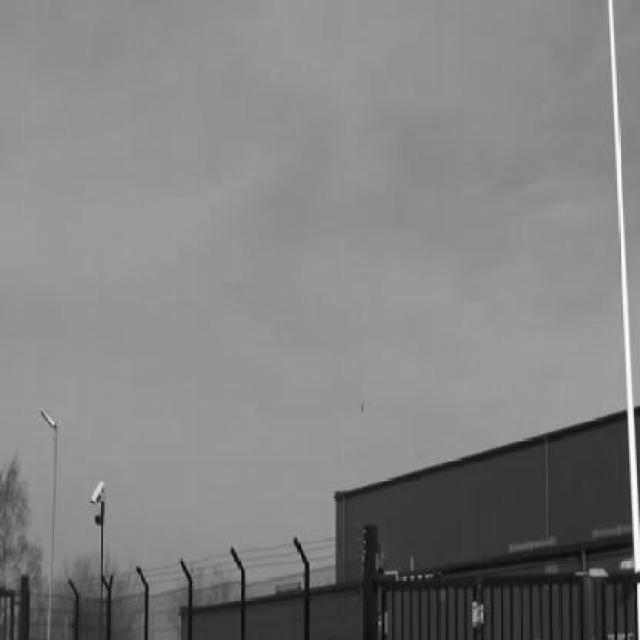helikopter: (354, 394, 372, 418)
